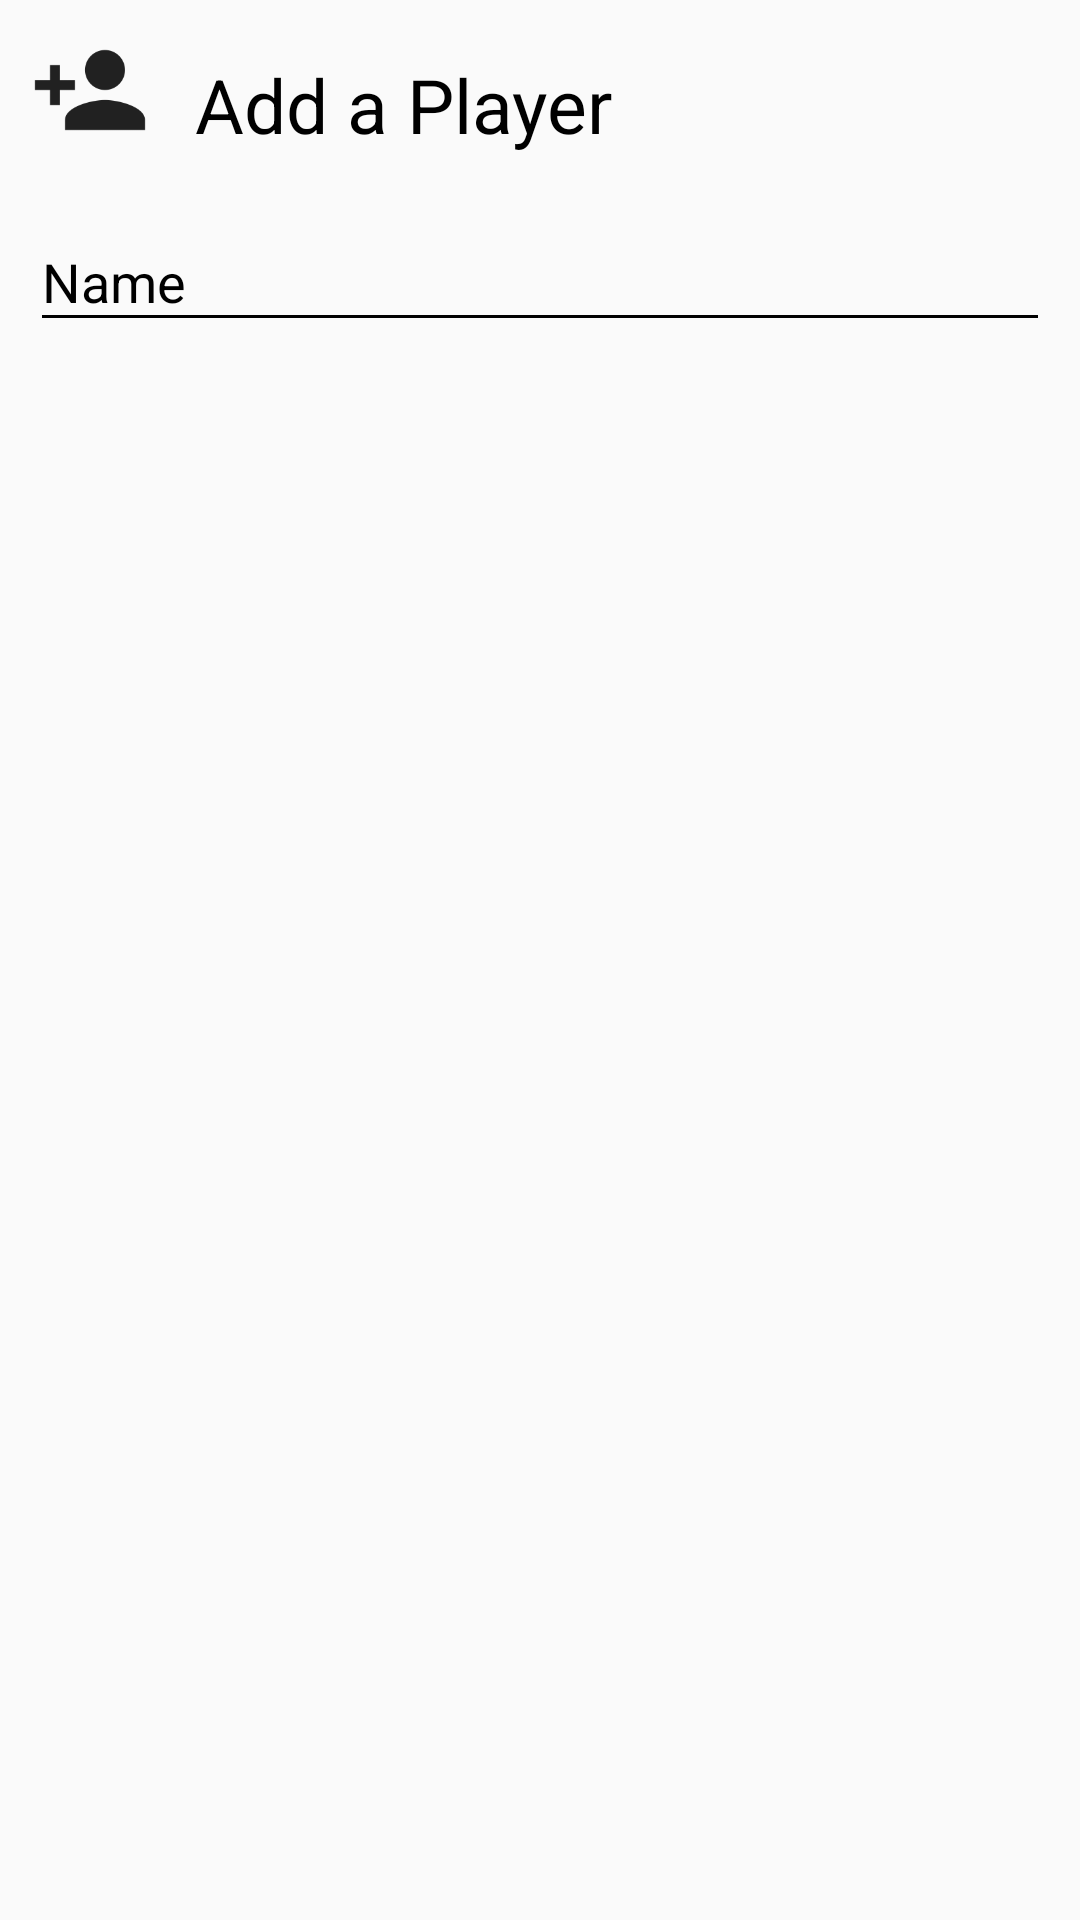

Screen size 1080*1920. Icon name, then its center in pixels as (x,y):
plus: (90,90)
